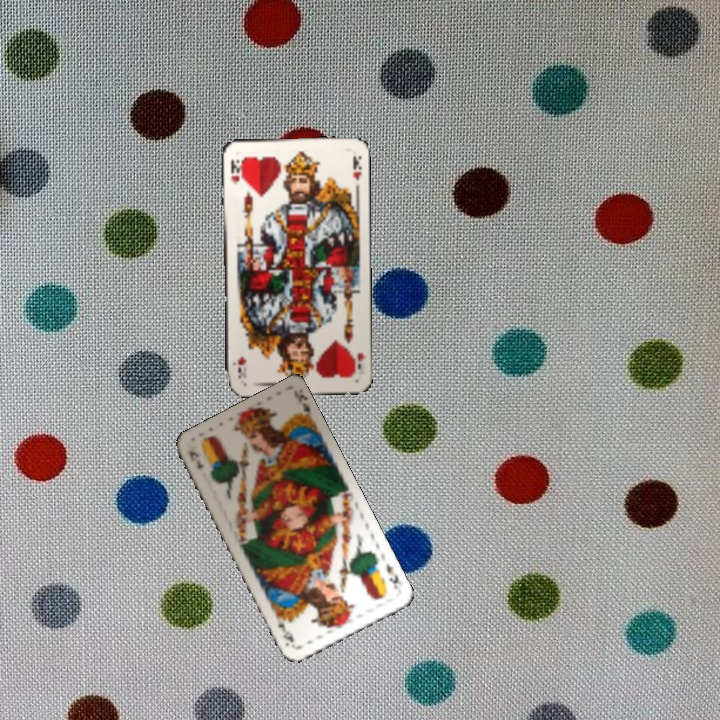EK: (382, 559, 402, 592), (184, 446, 206, 471)
HK: (226, 155, 245, 187), (347, 349, 367, 379)
